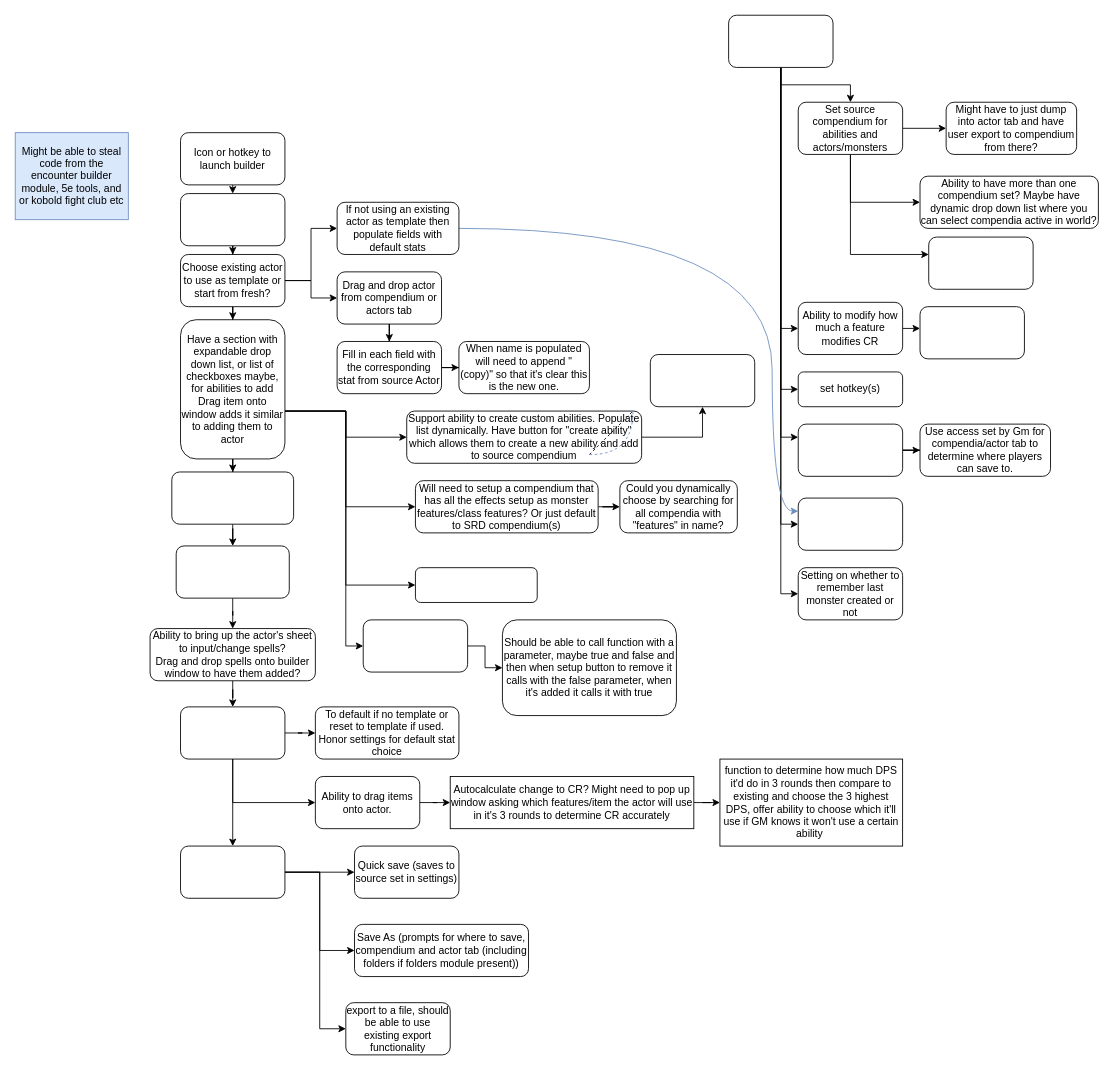
This 1114x1070 diagram has some shape labels left out. The centre of each missing label's shape, as x and y in pixels:
"Base stats changeable then dynamically update modifiers when changed" belongs at point (232, 571).
"Build UI window" belongs at point (232, 219).
"Button to clear all stats, one for each section, Stats/abilities/etc" belongs at point (232, 732).
"Button to remove item from list" belongs at point (476, 584).
"Dynamically change CR whenever a stat is changed or an ability is added/removed" belongs at point (232, 497).
"function to add abilities. Second function to remove or combine both?" belongs at point (415, 645).
"Items also, that may or may not increase CR Ie magic weapons, scrolls, etc" belongs at point (702, 380).
"List in settings or add a box to the feature items?" belongs at point (971, 332).
"Option to allow PCs to see/use builder?" belongs at point (850, 449).
"Saving creature" belongs at point (232, 871).
"setting for whether to populate default stats when not using a template actor" belongs at point (850, 523).
"settings config in module settings window" belongs at point (780, 40).
"Where to quick save to" belongs at point (980, 262).
